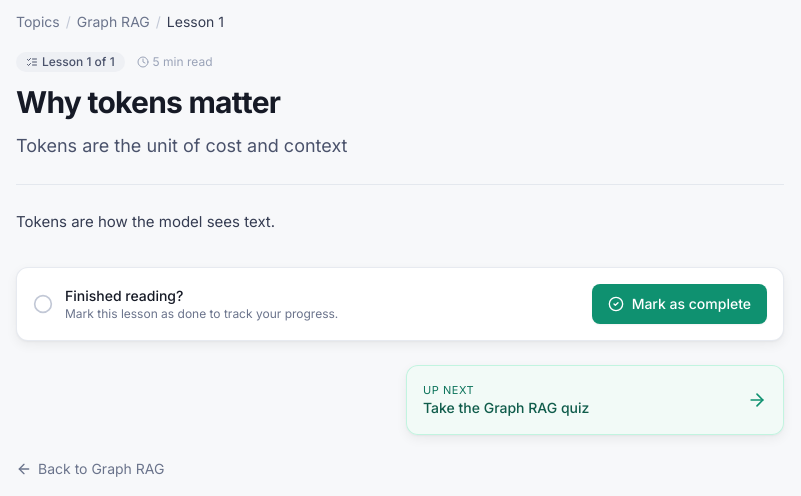
Test: LessonPage › disables the control while the toggle is pending and ignores a second activation
Click the button "Mark as complete". click: (679, 304)
box: [592,284,767,324]
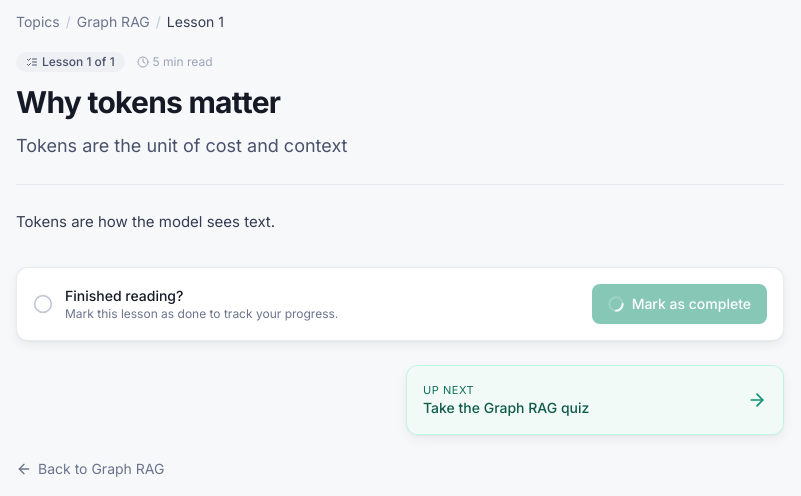
Check: the button "Mark as complete" is disabled
Click the button "Mark as complete". click: (679, 304)
box: [592,284,767,324]
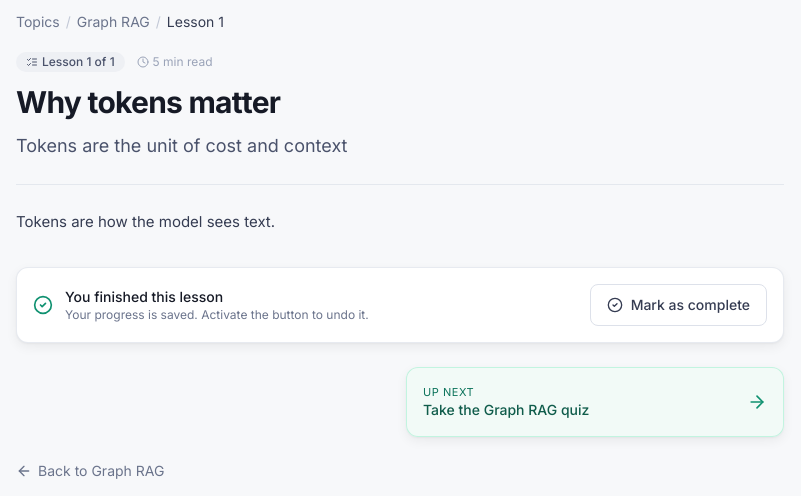
Check: the button "Mark as complete" is enabled, box [590,284,767,326]
